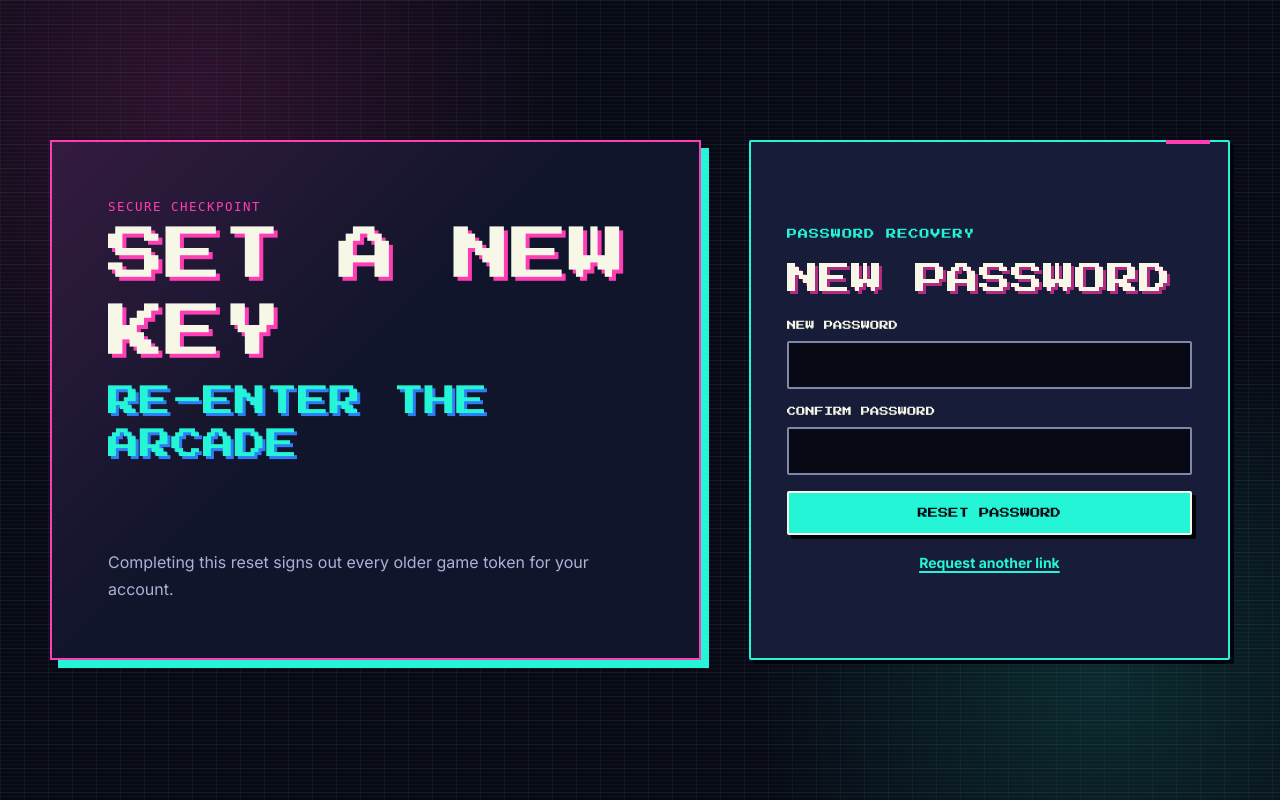
Test: public and shared page states › consumes a password reset token from the fragment and clears it from the URL
In the password field labelled "New password": (989, 365) [787,341,1192,389], type "new-arcade-pass"
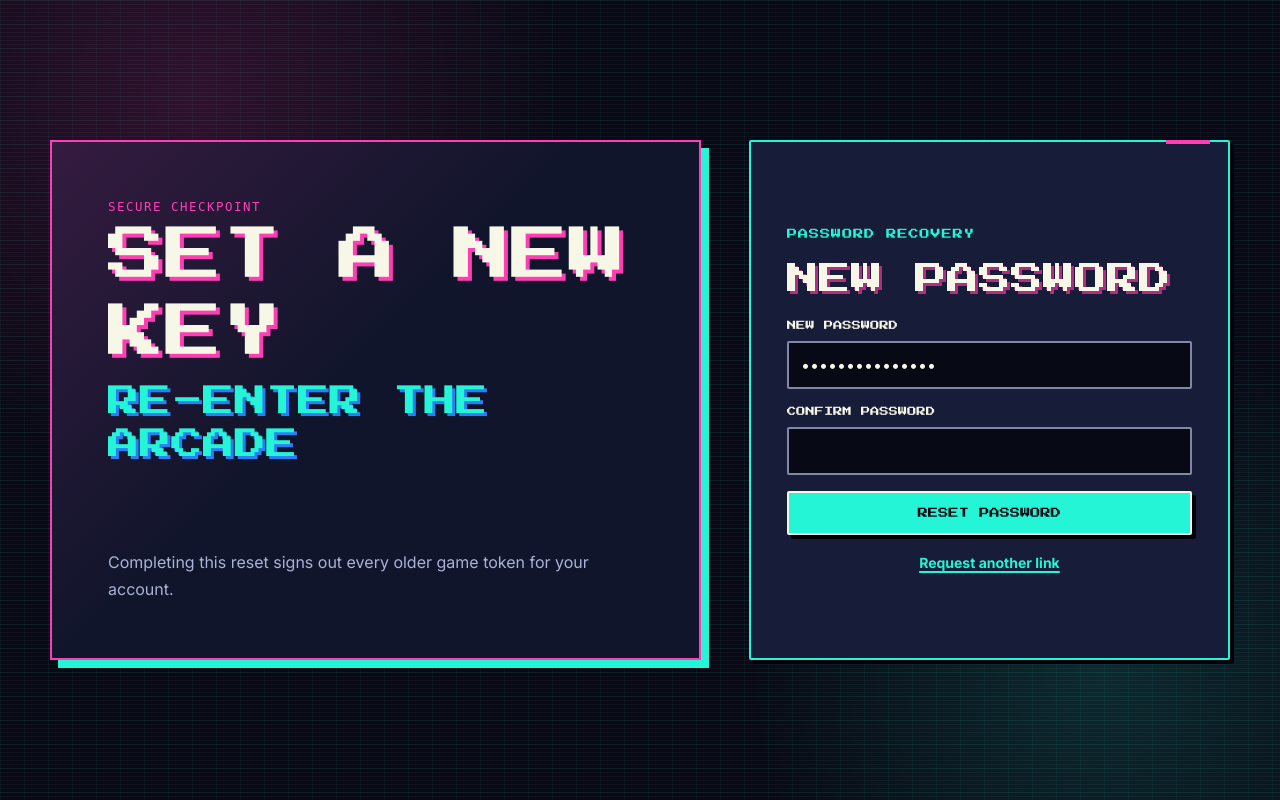
In the password field labelled "Confirm password": (989, 451) [787,427,1192,475], type "new-arcade-pass"
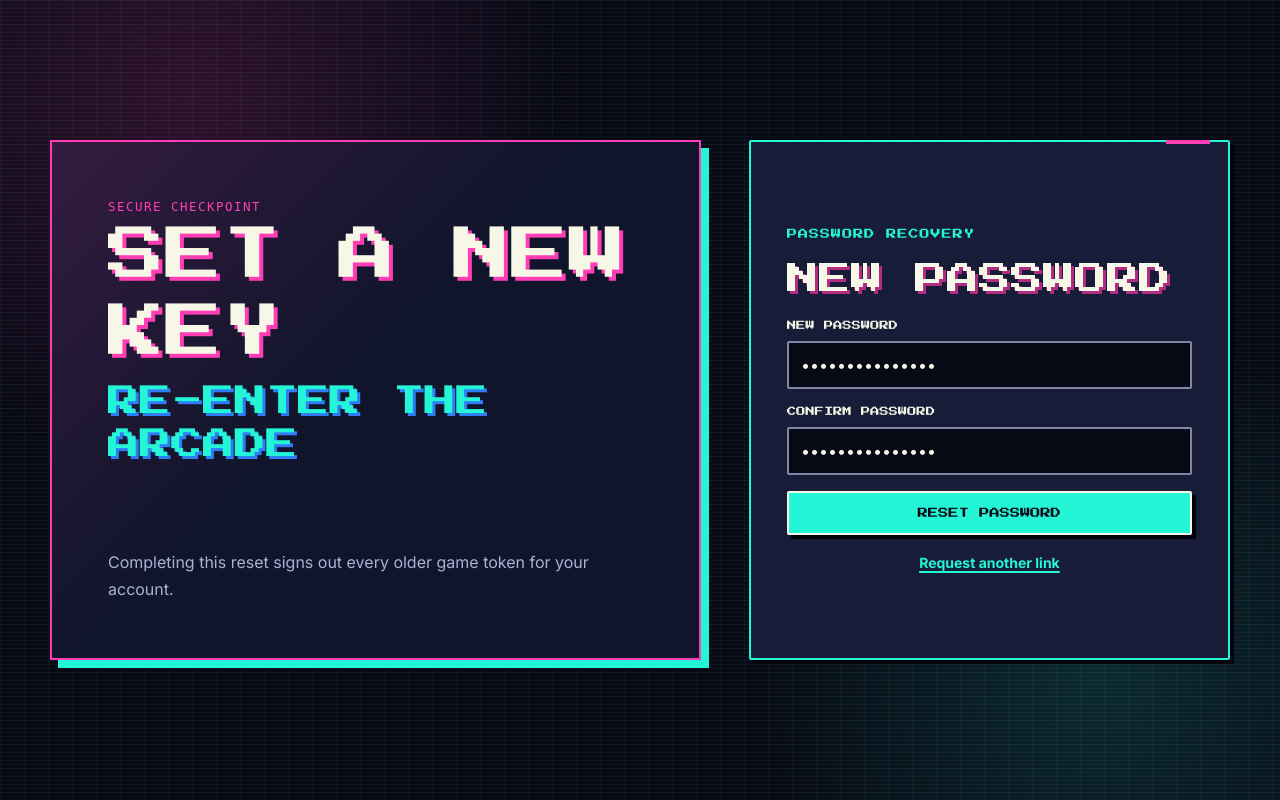
Click the button "Reset password": (989, 513) [787,491,1192,535]
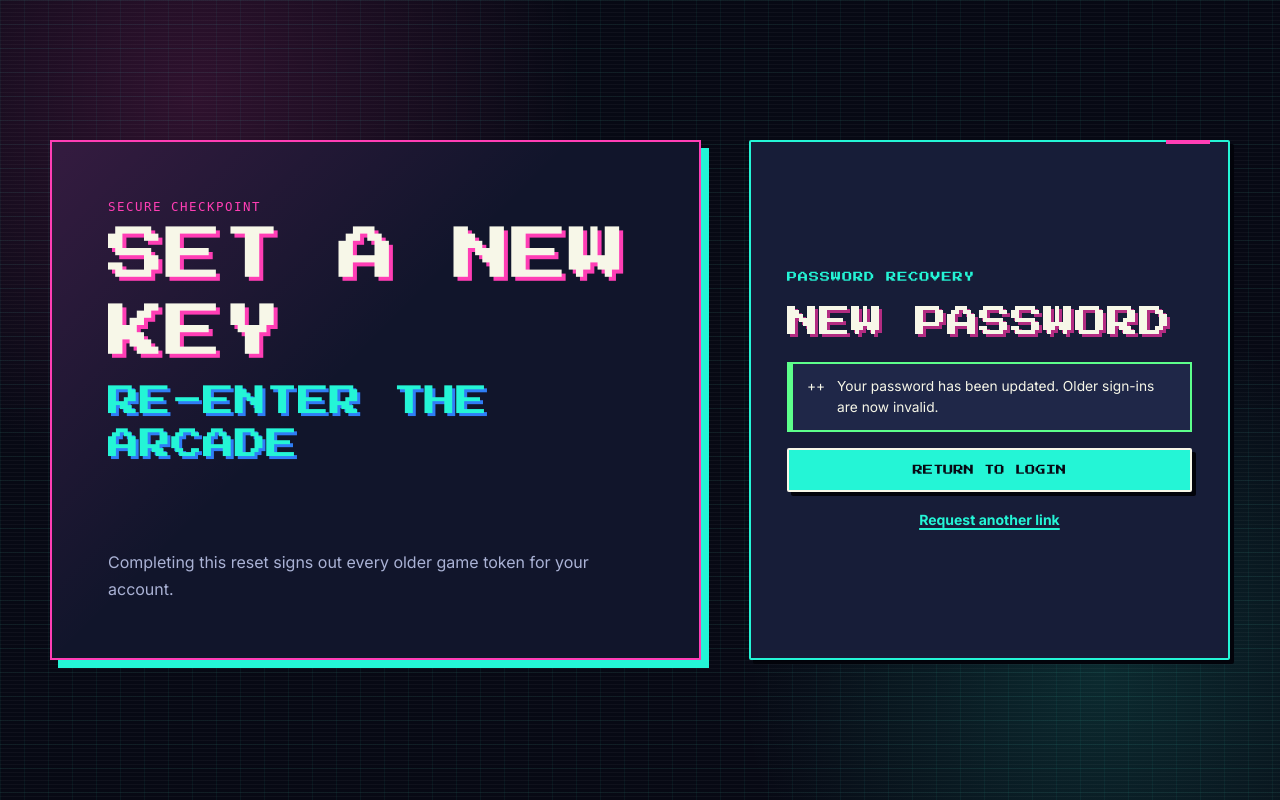
Check: the message shows "Older sign-ins are now invalid", box [837,378,1154,415]
